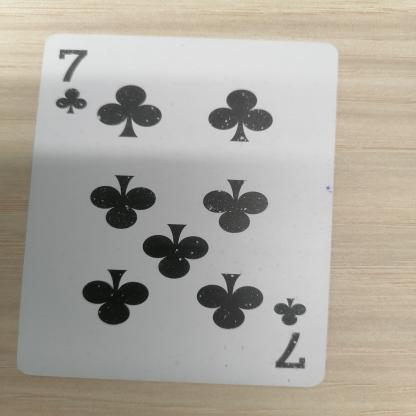7C: (43, 40, 110, 122), (266, 290, 326, 374)
